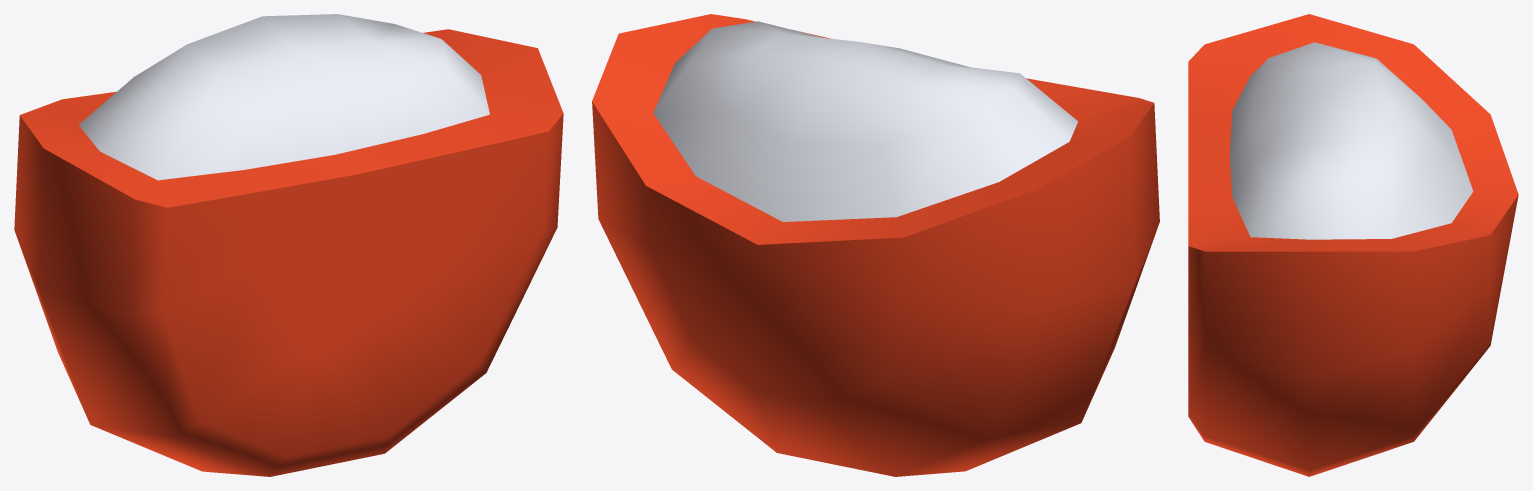
Rendered from Mochi.fbx.
3 views of the same model, side by side, from view 1: azimuth 30°, elevation 25°; view 2: azimuth 150°, elevation 25°; view 3: azimuth 270°, elevation 25° (orthographic). The views are drawn at different scales.
Parts seen in each view (by area): view 1: Mochi; view 2: Mochi; view 3: Mochi.
Part boxes in pixels (x1=…): Mochi: x1=14, y1=14, x2=563, y2=476; Mochi: x1=592, y1=14, x2=1159, y2=476; Mochi: x1=1188, y1=14, x2=1518, y2=476.
Bounding box in the file's own units: 187 × 145 × 118.
